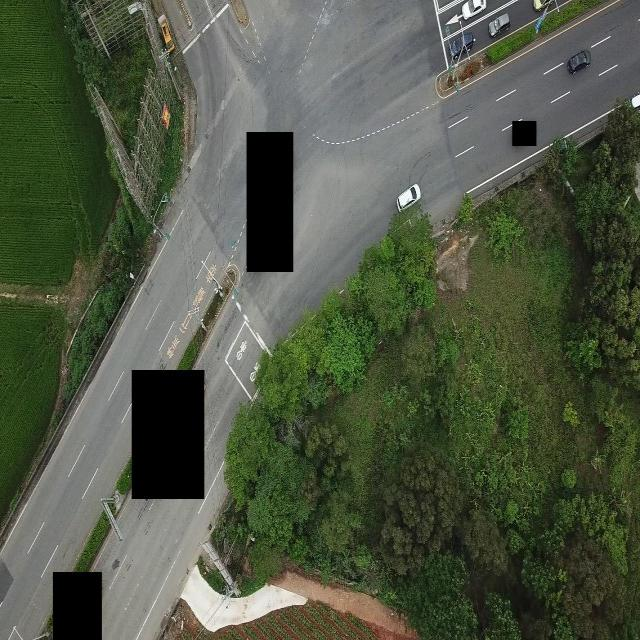car: (448, 31, 475, 60), (396, 183, 421, 213), (567, 49, 590, 74), (488, 12, 510, 37), (462, 0, 486, 20), (532, 0, 553, 11)
